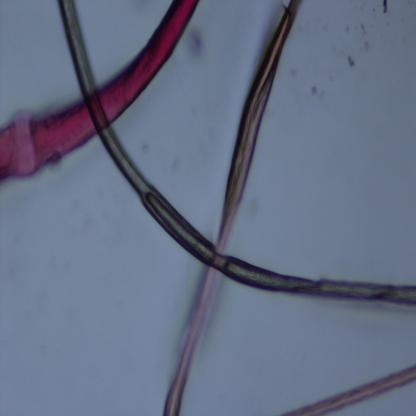Background material: (187, 23, 205, 61), (347, 52, 357, 70), (380, 0, 390, 15)
Microfibre: (59, 1, 416, 308), (164, 1, 298, 415), (0, 1, 198, 184), (285, 365, 416, 415)
